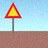sign: (4, 2, 22, 33)
